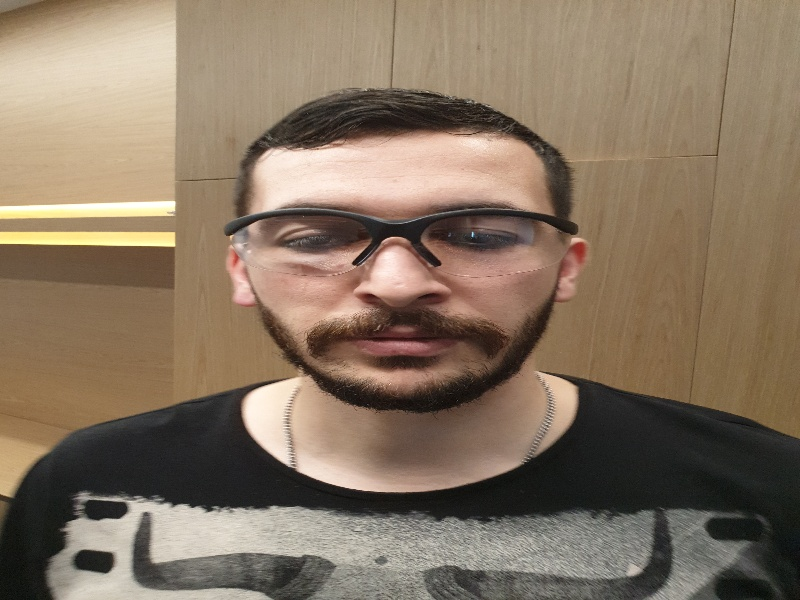Gozluk: (226, 206, 581, 274)
